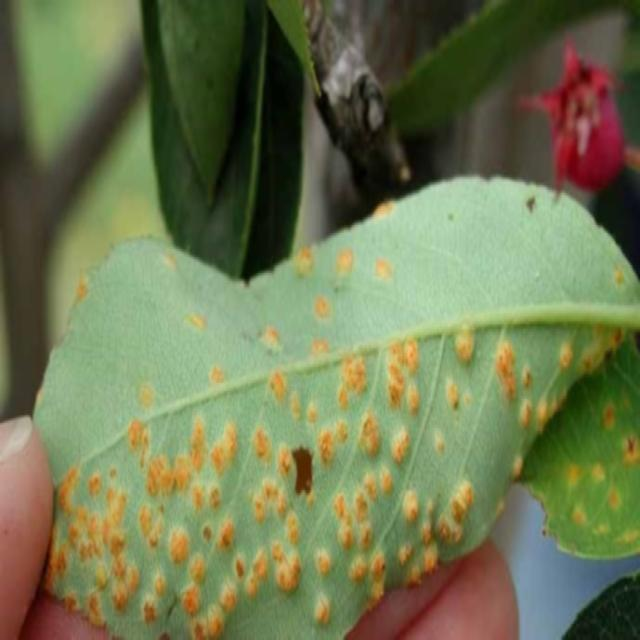Gymnosporangium_Rusts: (31, 171, 639, 638)
